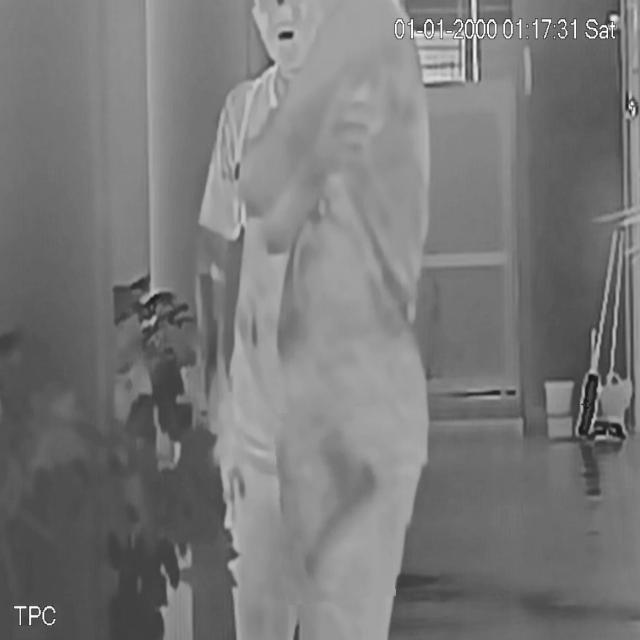Weapon: (276, 407, 392, 603)
